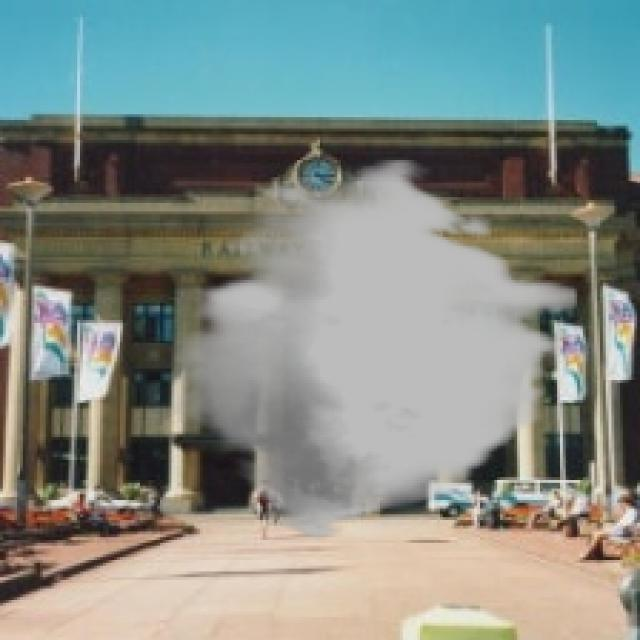Smoke: (172, 157, 577, 540)
